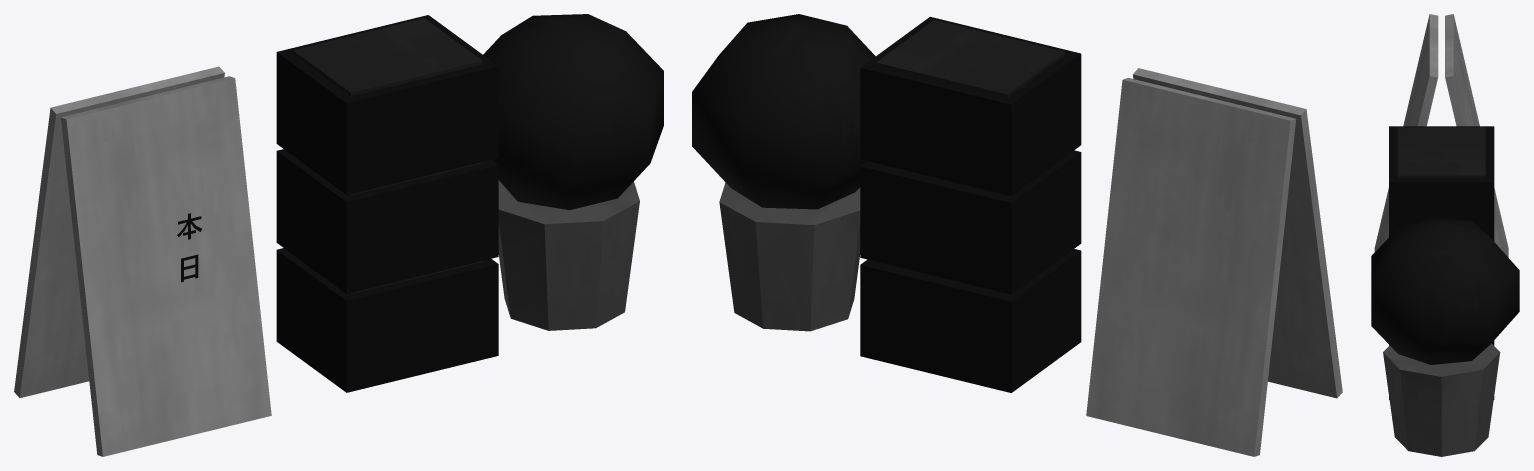
File: street_clutter.glb
The picture shows the model from 3 angles, left to right: view 1: azimuth 30°, elevation 25°; view 2: azimuth 150°, elevation 25°; view 3: azimuth 270°, elevation 25°; orthographic projection. The views are drawn at different scales.
Visible parts, largest first — view 1: street_clutter; view 2: street_clutter; view 3: street_clutter.
Part boxes in pixels (bbox=[...]): street_clutter: bbox=[14, 14, 663, 456]; street_clutter: bbox=[692, 14, 1342, 456]; street_clutter: bbox=[1371, 14, 1519, 456].
Bounding box in the file's own units: 1.76 × 0.8933 × 0.5063.
Materials: 5 (5 with a texture image).
